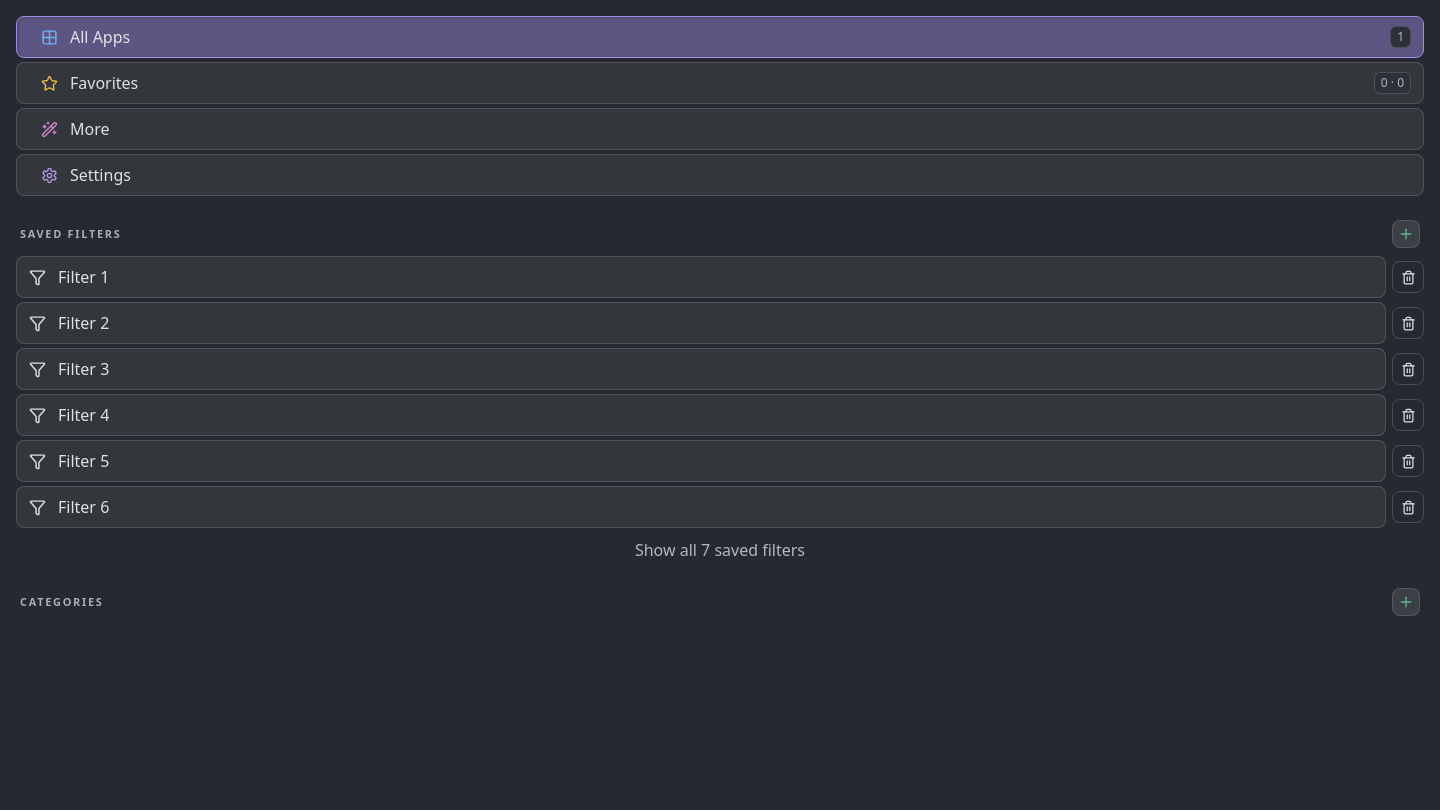
Test: AppNavigation › keeps categories close by collapsing a long saved-filter list
Check: the button "Filter 6" is shown, box [16,486,1386,528]
Check: the button "Filter 7" is not shown
Click the button "Show all 7 saved filters": x=720, y=550 [16,532,1424,568]
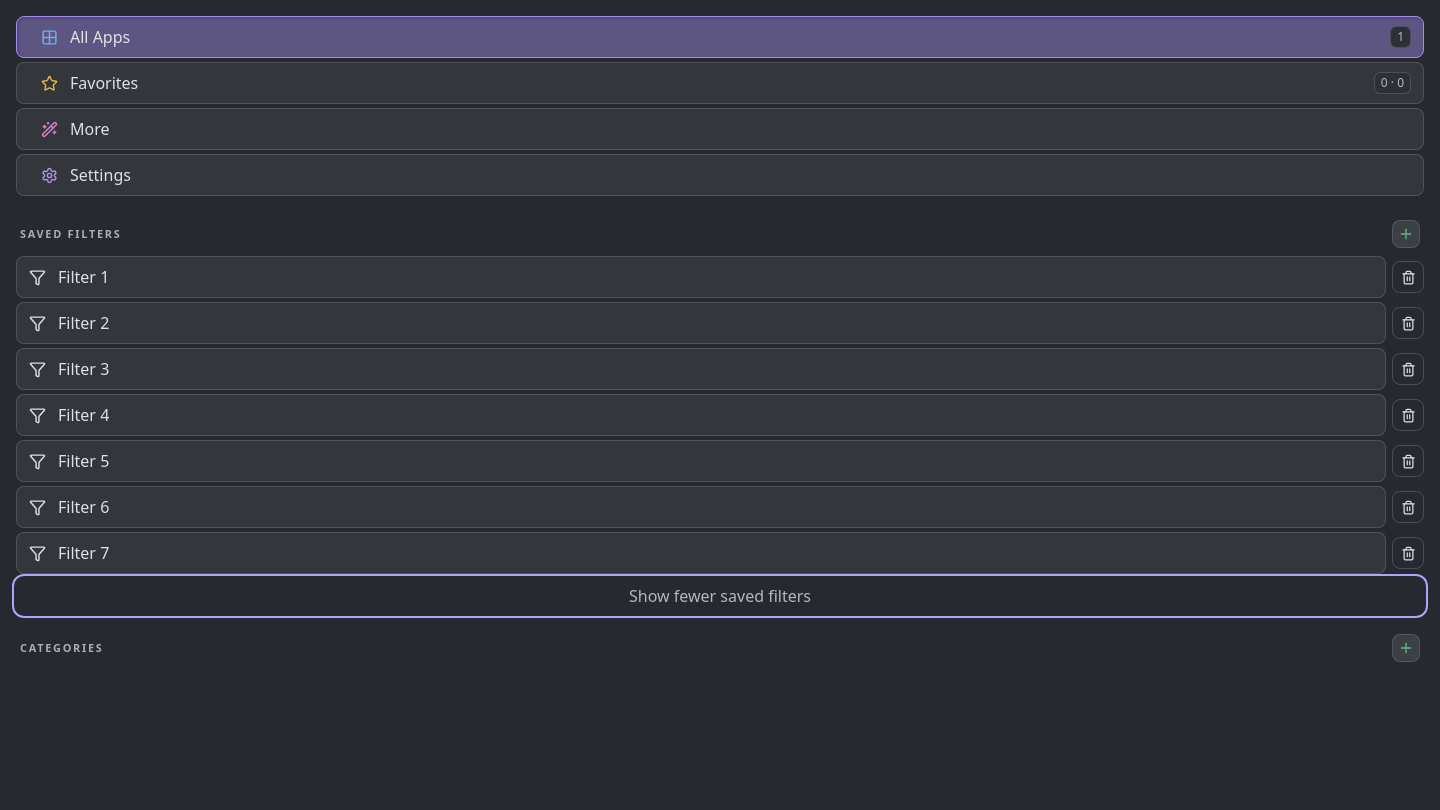
Check: the button "Filter 7" is shown, box [16,532,1386,574]
Click the button "Show fewer saved filters": x=720, y=596 [16,578,1424,614]
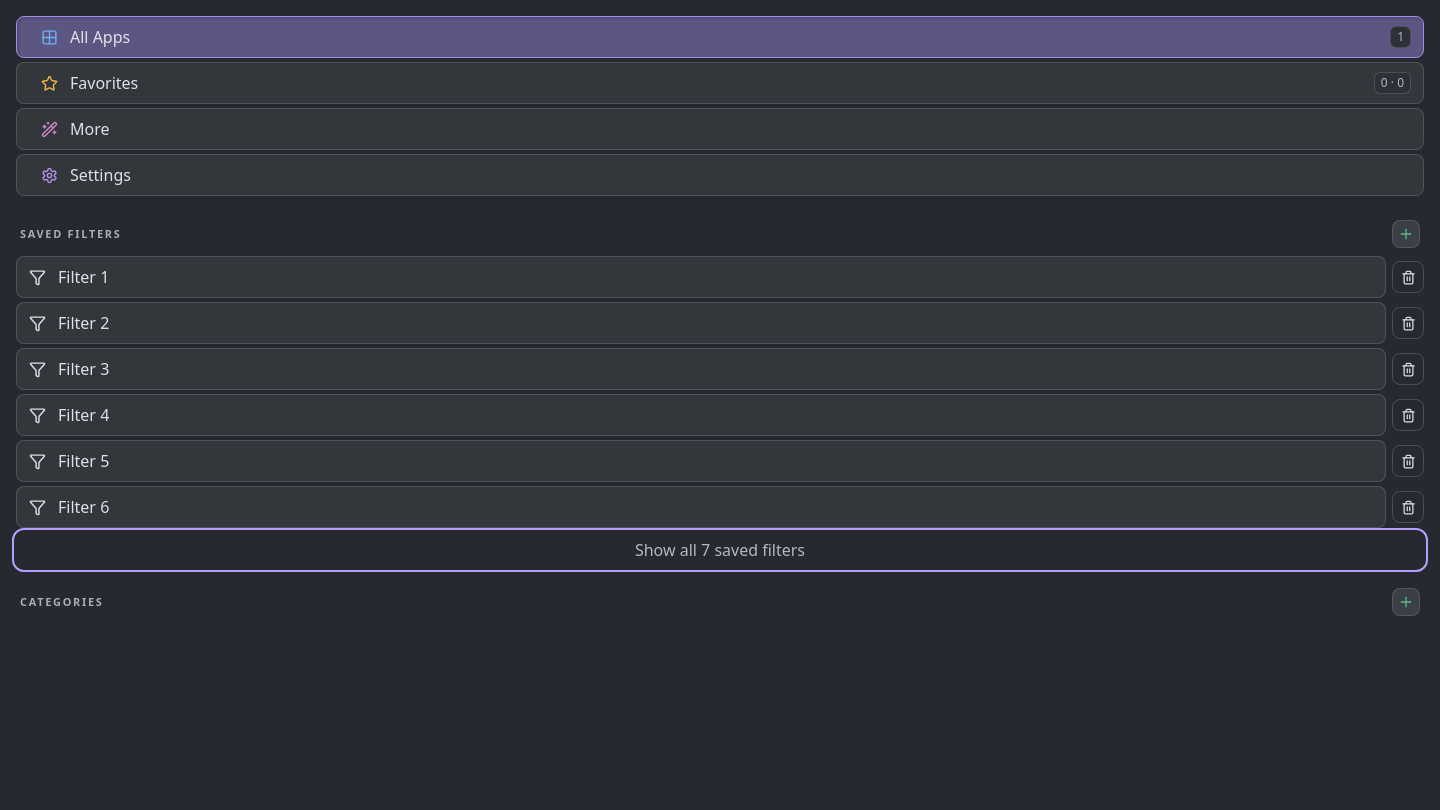
Check: the button "Filter 7" is gone
